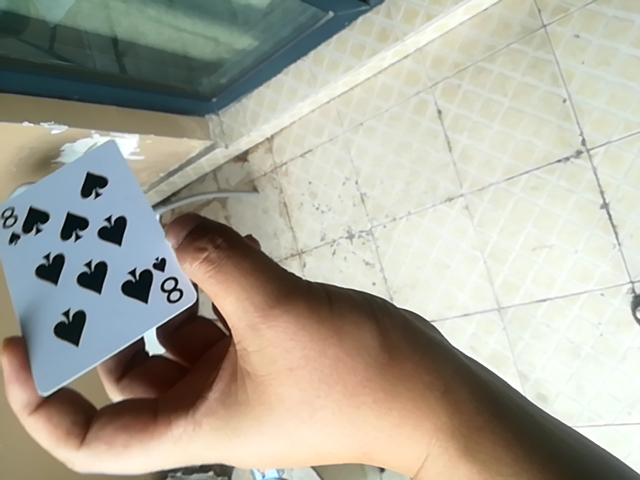ht 8: (1, 130, 192, 404)
